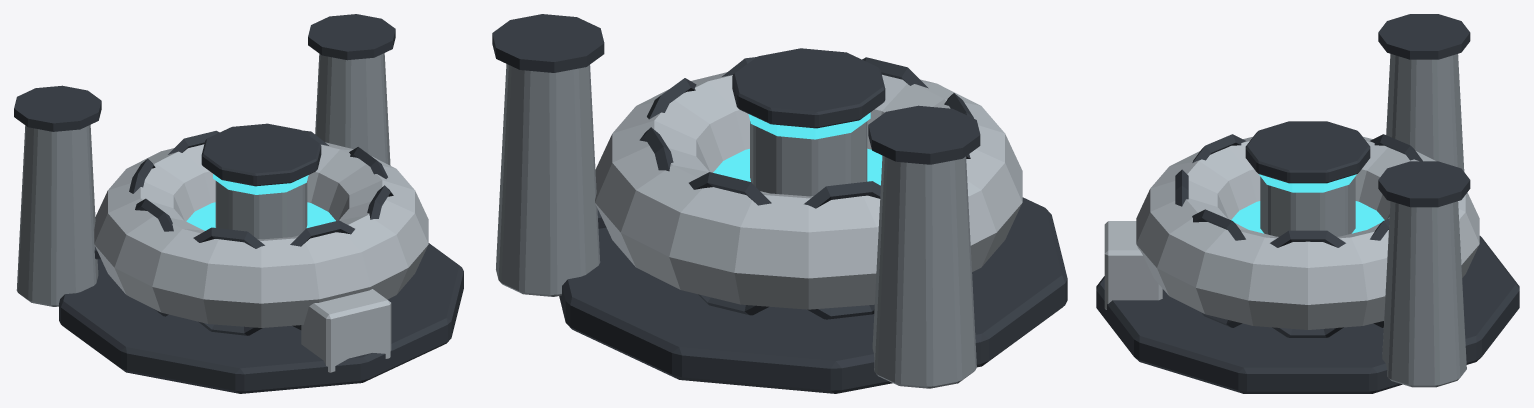
File: exo-fusion.glb
The picture shows the model from 3 angles, left to right: view 1: azimuth 30°, elevation 25°; view 2: azimuth 150°, elevation 25°; view 3: azimuth 270°, elevation 25°; orthographic projection. The views are drawn at different scales.
Parts seen in each view (by area): view 1: body, charge; view 2: body, charge; view 3: body, charge.
Part boxes in pixels (x1=…): body: x1=14, y1=14, x2=463, y2=393; charge: x1=186, y1=174, x2=335, y2=230; body: x1=492, y1=14, x2=1067, y2=393; charge: x1=713, y1=112, x2=882, y2=185; body: x1=1096, y1=14, x2=1519, y2=393; charge: x1=1231, y1=174, x2=1384, y2=233.
Size of the model in its own units: 9.01 by 4.65 by 8.74.
